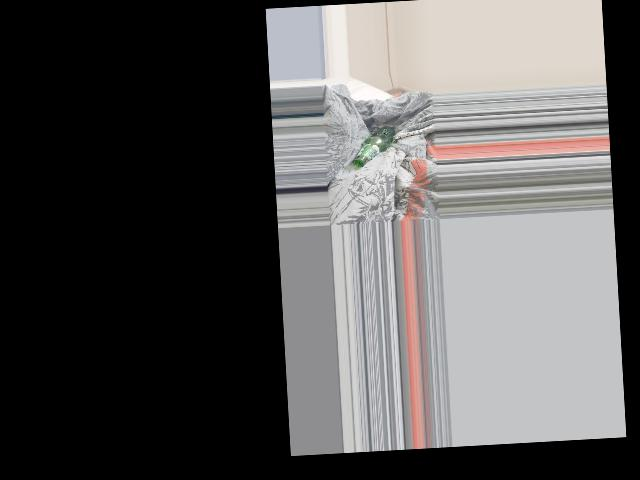beer: (351, 126, 397, 167)
